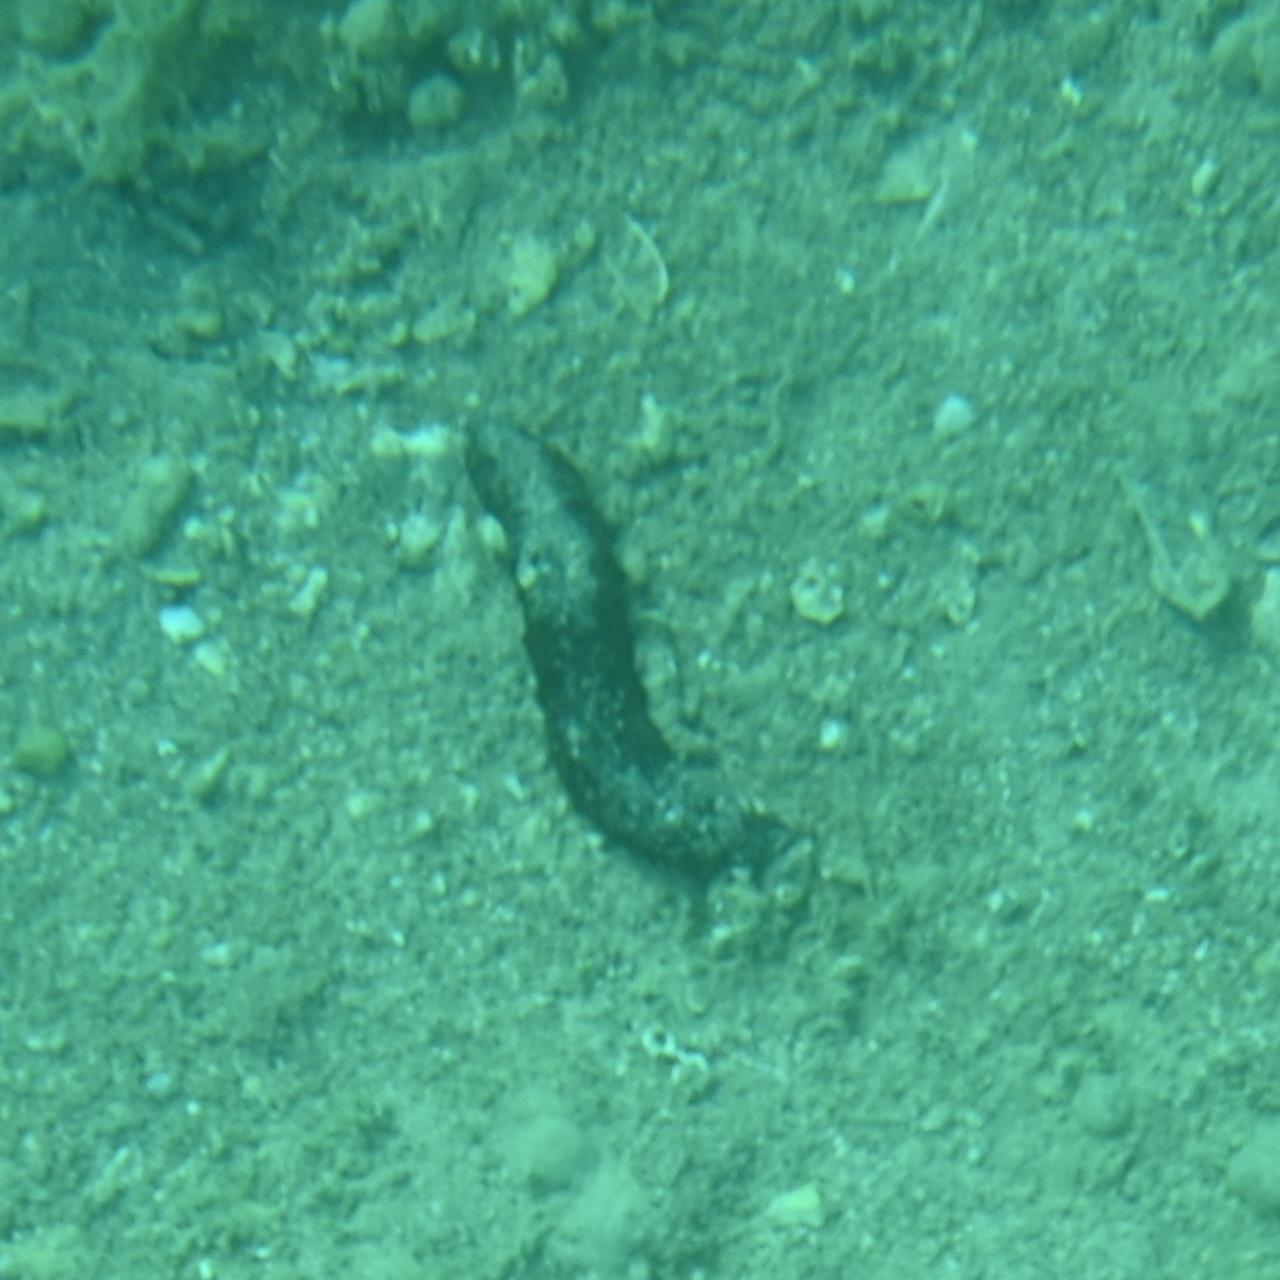Holothuria tubulosa: (454, 400, 826, 880)
